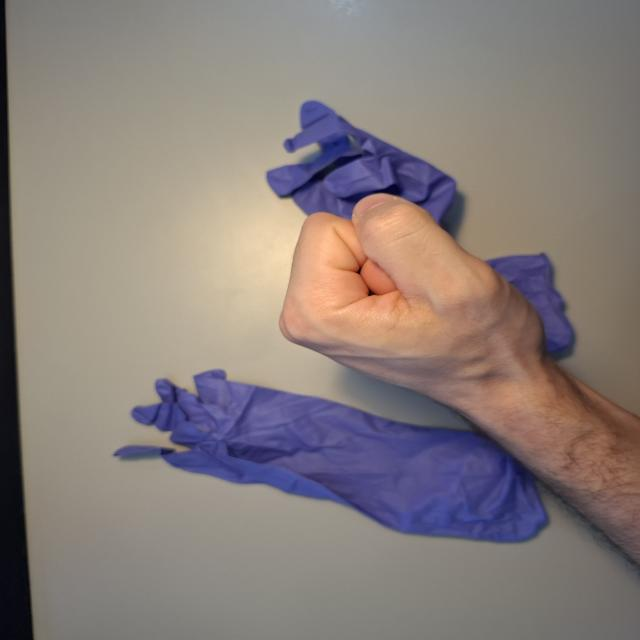glove_off: (272, 188, 575, 408)
